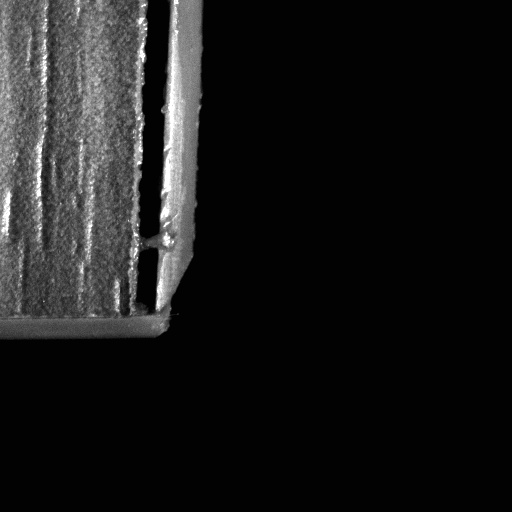kaijiao: (134, 2, 206, 326)
